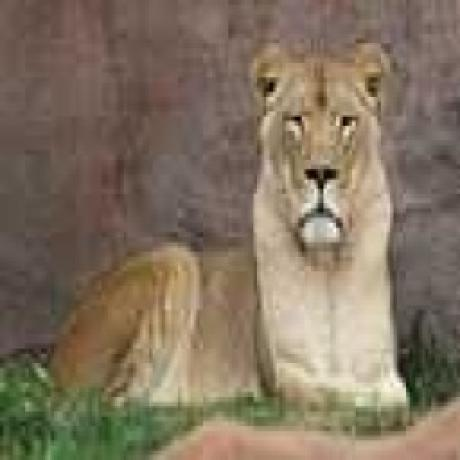Lion: (37, 42, 410, 413)
